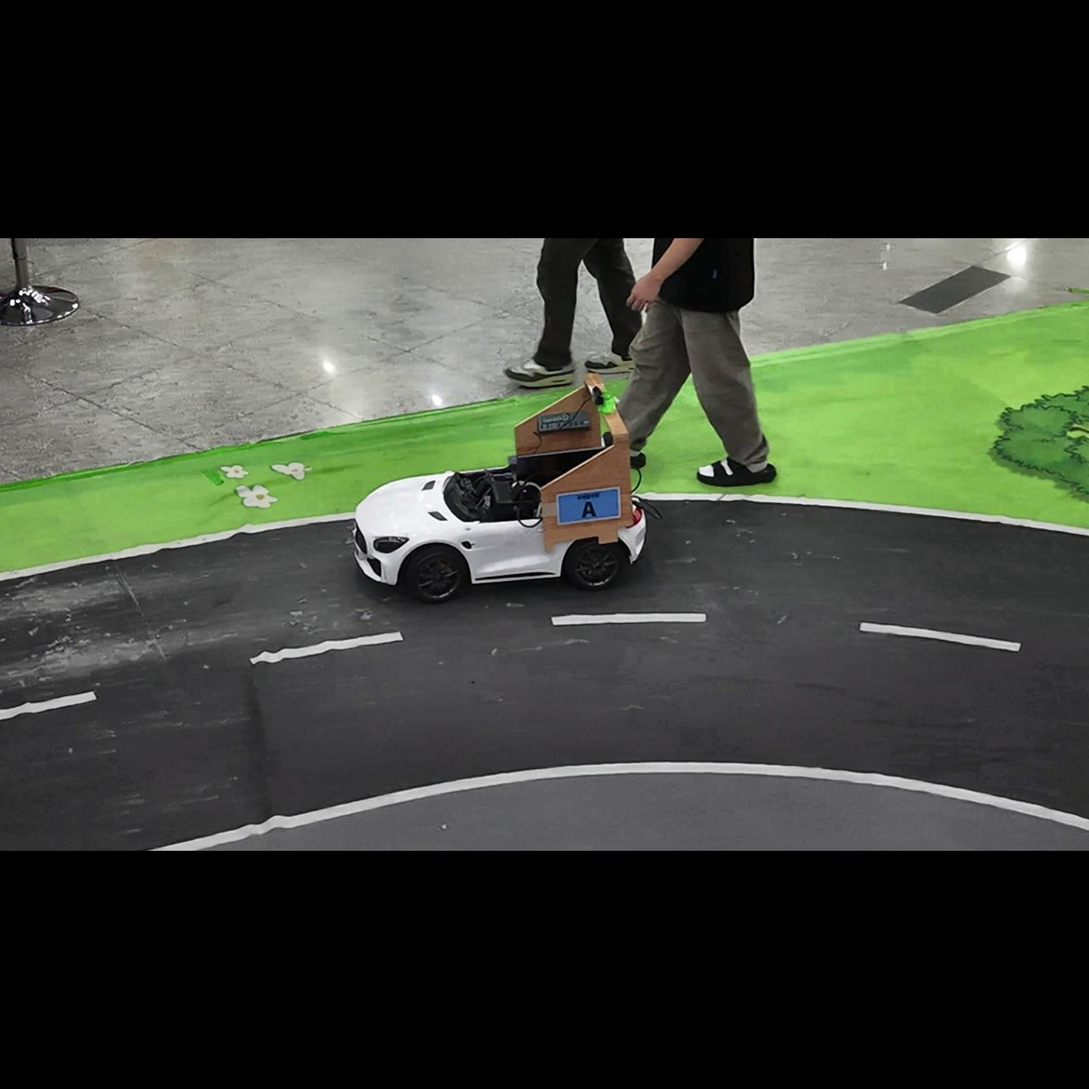broken_line: (249, 631, 403, 665), (860, 622, 1022, 651), (0, 691, 97, 720), (551, 613, 707, 625)
